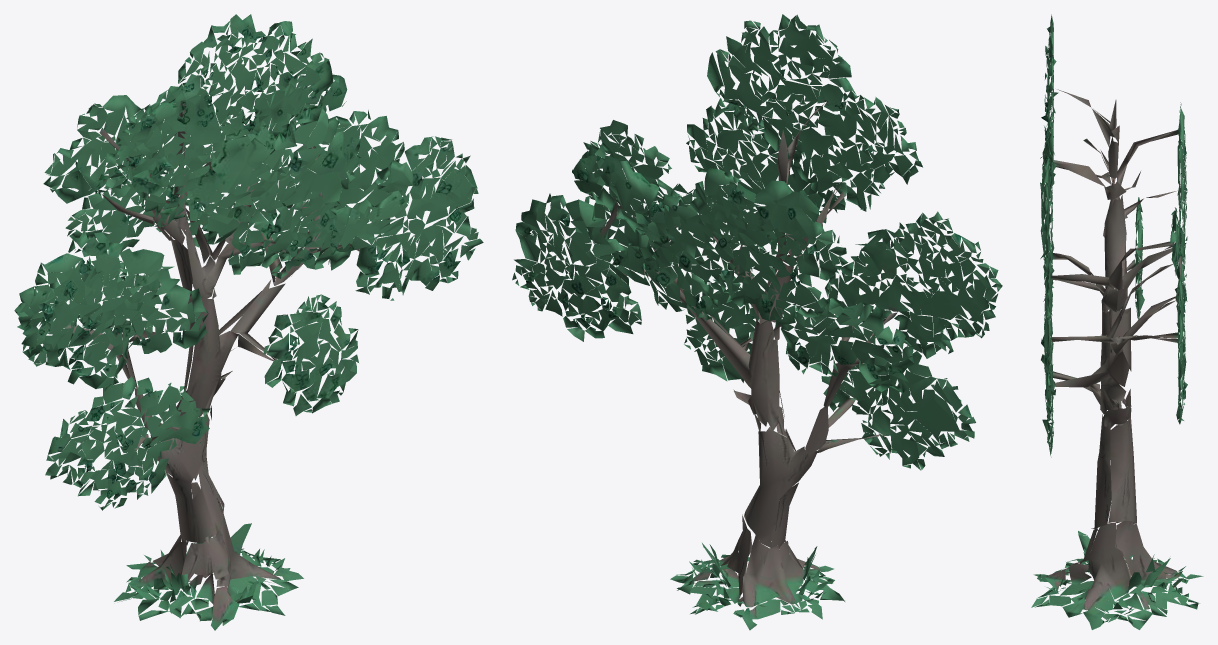
Rendered from tree_a.glb.
3 renders of one model, left to right at view 1: azimuth 30°, elevation 25°; view 2: azimuth 150°, elevation 25°; view 3: azimuth 270°, elevation 25°, orthographic. The views are drawn at different scales.
Parts seen in each view (by area): view 1: tripo_node_a01c9366-95d0-416d-94a7-4dca78c9588c; view 2: tripo_node_a01c9366-95d0-416d-94a7-4dca78c9588c; view 3: tripo_node_a01c9366-95d0-416d-94a7-4dca78c9588c.
Boxes of the visible parts, x1,y1,x2,y2 form: tripo_node_a01c9366-95d0-416d-94a7-4dca78c9588c: (14, 14, 483, 630); tripo_node_a01c9366-95d0-416d-94a7-4dca78c9588c: (512, 14, 1002, 630); tripo_node_a01c9366-95d0-416d-94a7-4dca78c9588c: (1031, 14, 1203, 629).
Size of the model in its own units: 0.8097 by 0.9987 by 0.2737.
Materials: 1 (1 with a texture image).
